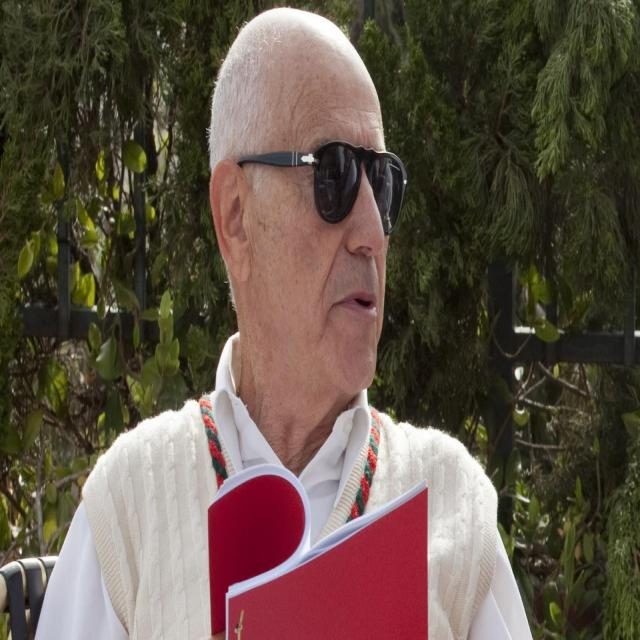no-earmuff: (201, 140, 268, 313)
